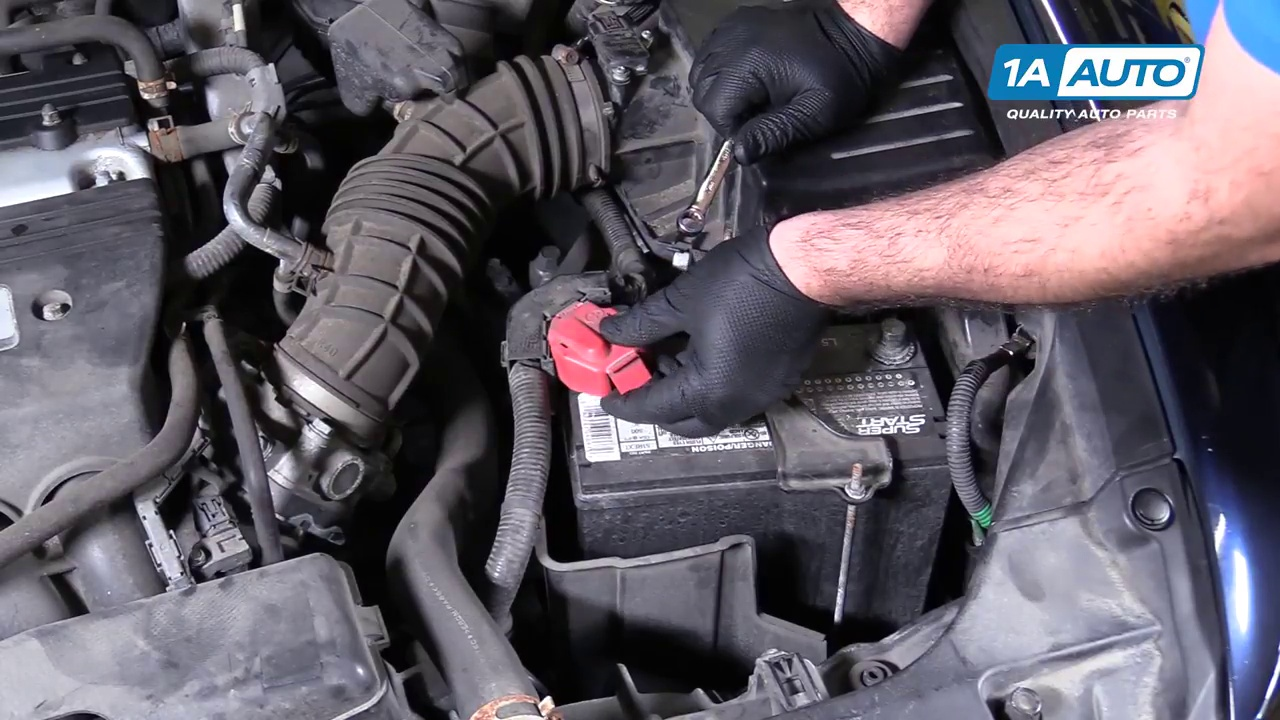battery: (533, 297, 949, 507)
neg_disconnected: (855, 302, 935, 379)
pos_touched: (497, 270, 720, 448)
